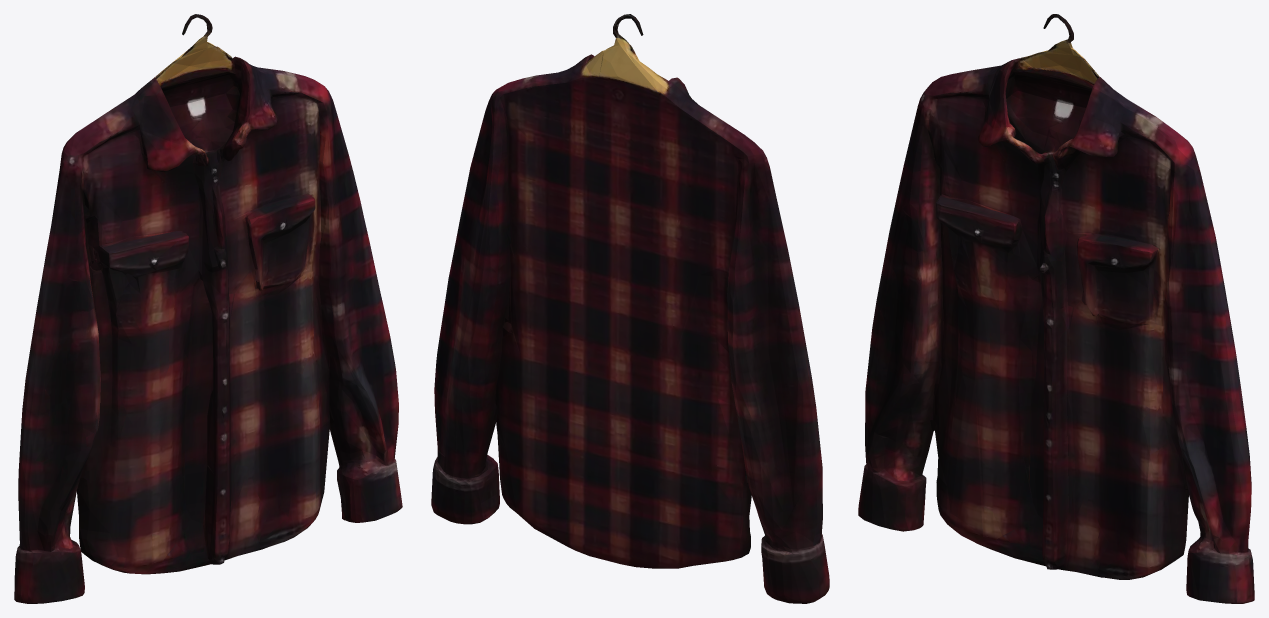
File: pedestal_phone_white.glb
3 renders of one model, left to right at view 1: azimuth 30°, elevation 25°; view 2: azimuth 150°, elevation 25°; view 3: azimuth 330°, elevation 25°, orthographic.
Parts seen in each view (by area): view 1: geometry_0; view 2: geometry_0; view 3: geometry_0.
Boxes of the visible parts, left/top/right/bottom form: geometry_0: left=14, top=14, right=402, bottom=603; geometry_0: left=431, top=14, right=829, bottom=603; geometry_0: left=858, top=14, right=1254, bottom=603.
Bounding box in the file's own units: 0.742 × 0.9982 × 0.148.
Materials: 1 (1 with a texture image).
